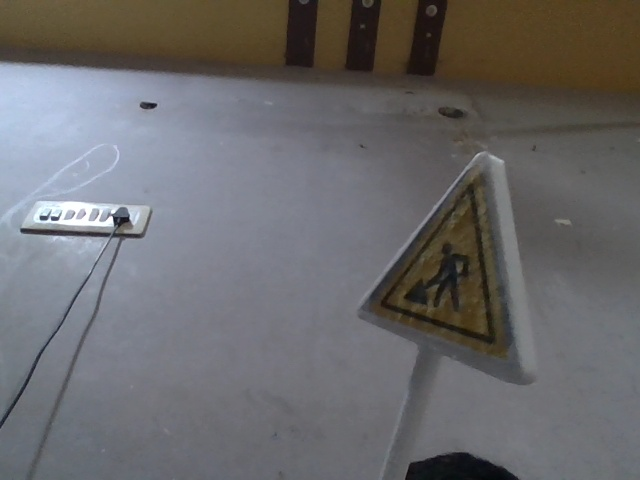workinprogress: (341, 151, 538, 379)
